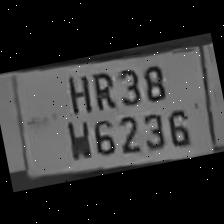2: (110, 109, 142, 156)
3: (110, 60, 144, 107), (134, 105, 168, 152)
6: (86, 113, 118, 158), (162, 103, 194, 148)
8: (136, 59, 170, 104)
H: (57, 67, 94, 116)
R: (84, 64, 118, 111)
W: (59, 114, 94, 162)
